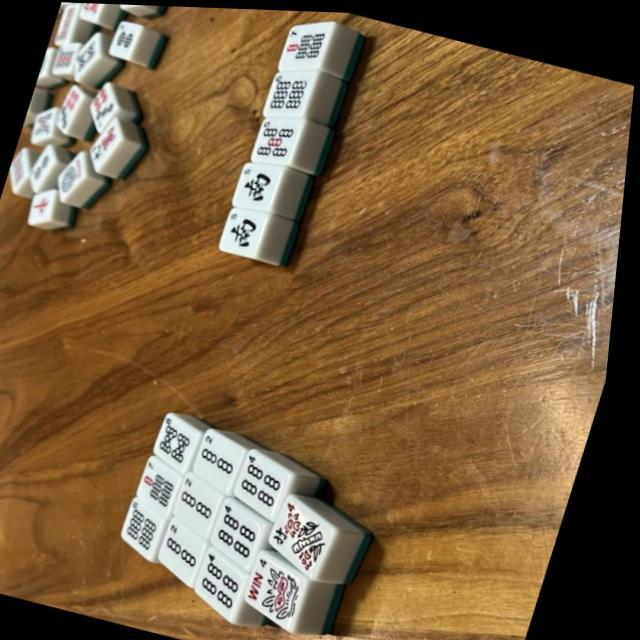bf4: (277, 490, 347, 578)
bs4: (254, 547, 319, 629)
hws: (222, 203, 274, 256), (235, 159, 287, 209)
sb2: (168, 514, 216, 585), (183, 468, 232, 537), (201, 425, 252, 490)
sb4: (220, 493, 275, 569), (243, 445, 300, 518), (205, 542, 258, 620)
sb5: (252, 114, 307, 163)
sb6: (131, 495, 174, 556), (263, 67, 319, 113)
sb7: (278, 18, 335, 67), (146, 452, 191, 513)
sb8: (161, 409, 208, 472)
